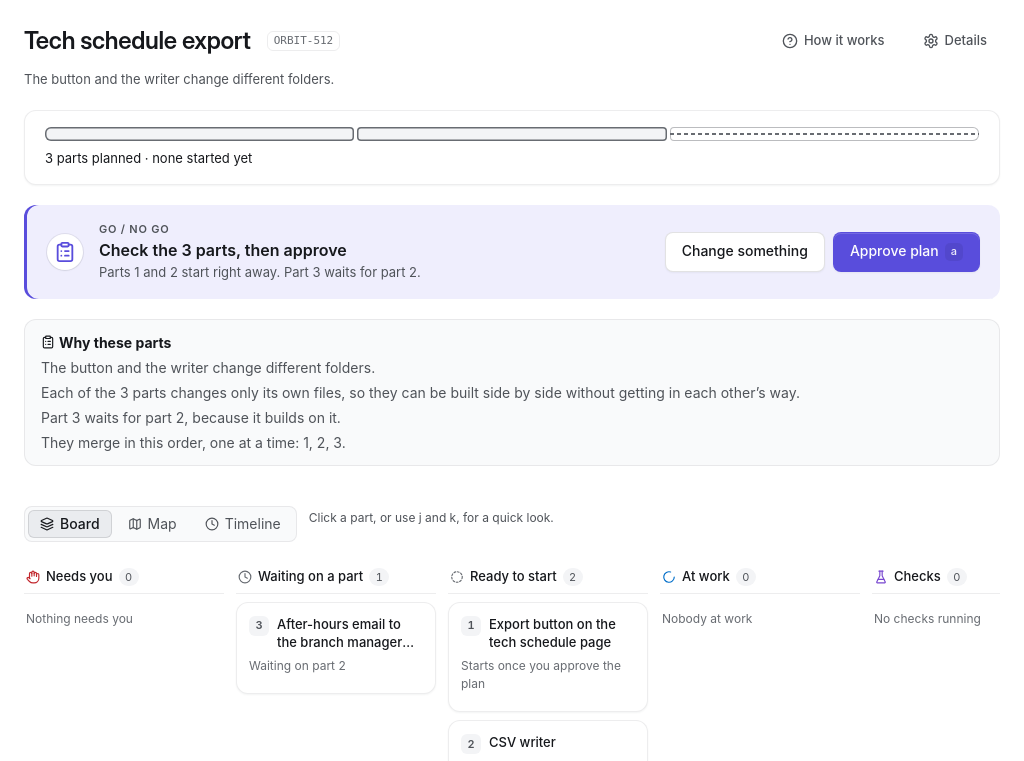
Scenario: one stack › Change something (r) sends the Foreman a note about the plan
Check: the heading "Tech schedule export" is shown, box left=24, top=26, right=251, bottom=56
Press r
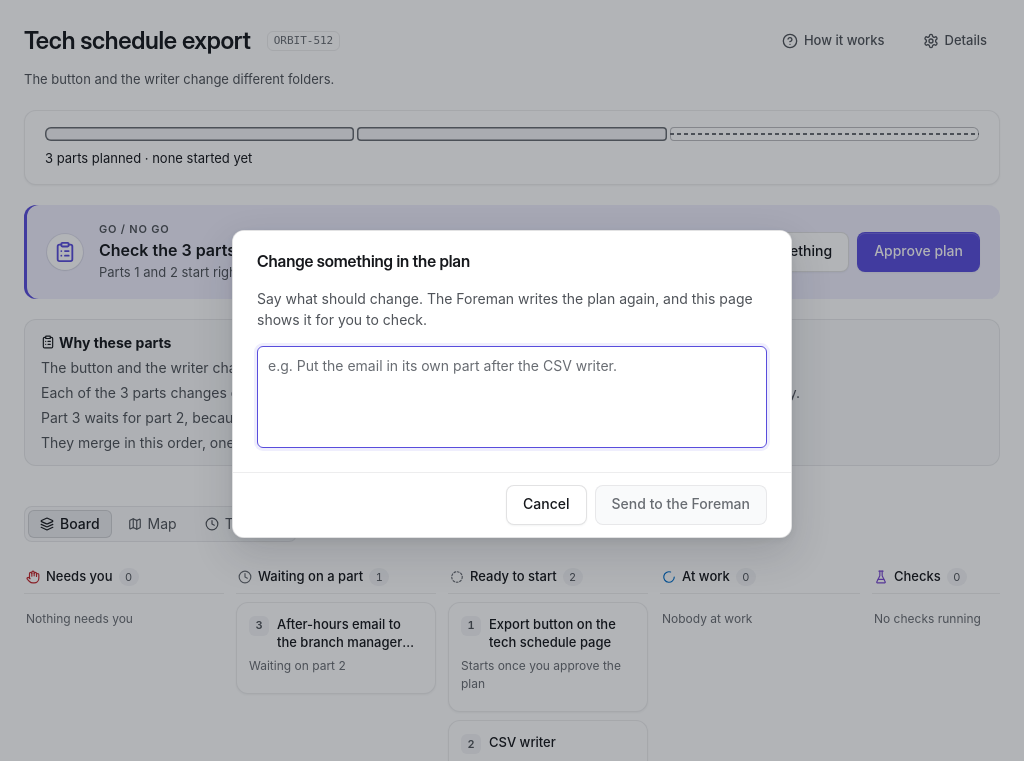
Check: the button "Send to the Foreman" is disabled, box left=595, top=485, right=767, bottom=525
Type "Put the email after the export." into the text box at (512, 397), box left=257, top=346, right=767, bottom=448
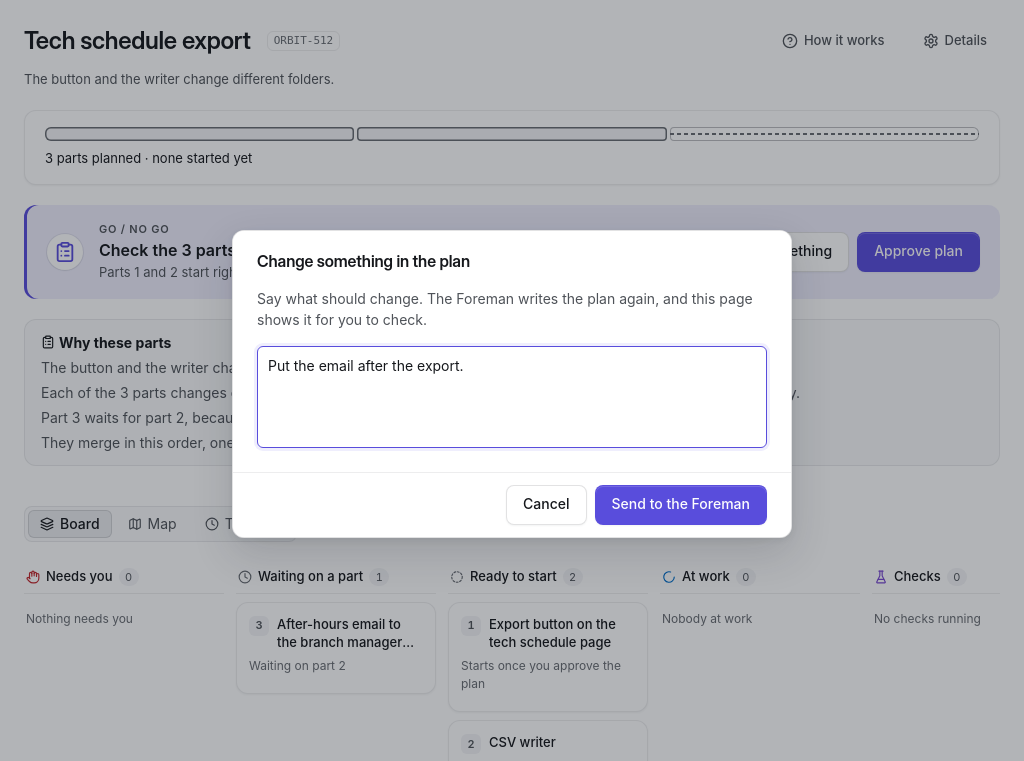
Click the button "Send to the Foreman" at (681, 505), box left=595, top=485, right=767, bottom=525
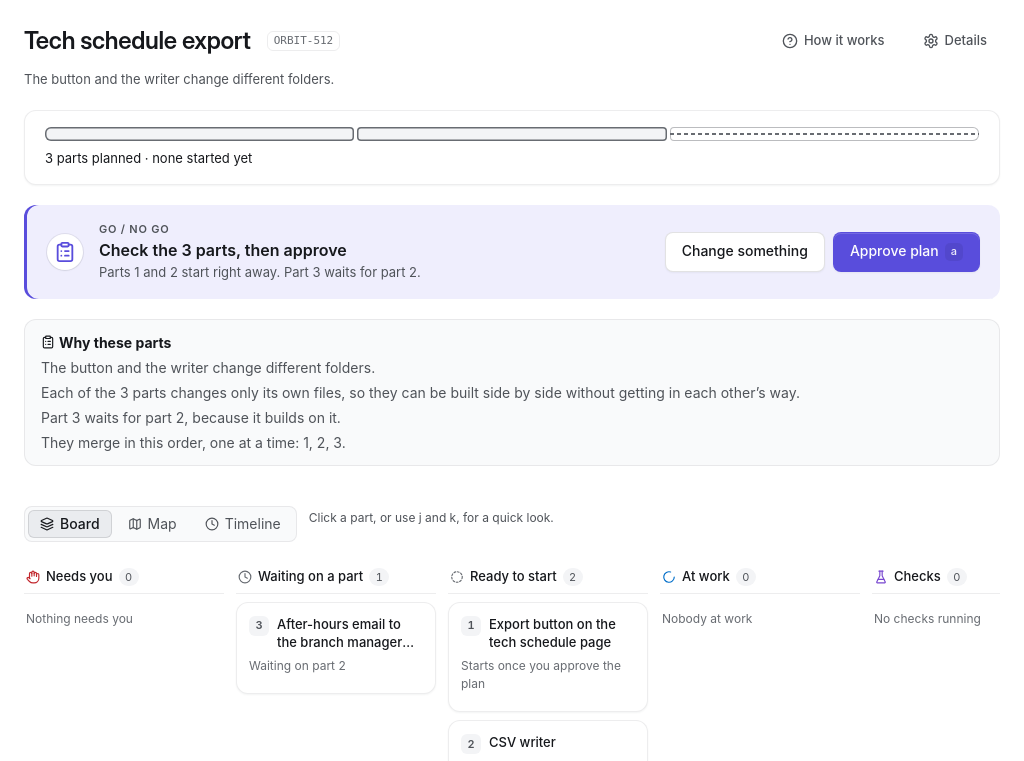
Check: the dialog is gone
